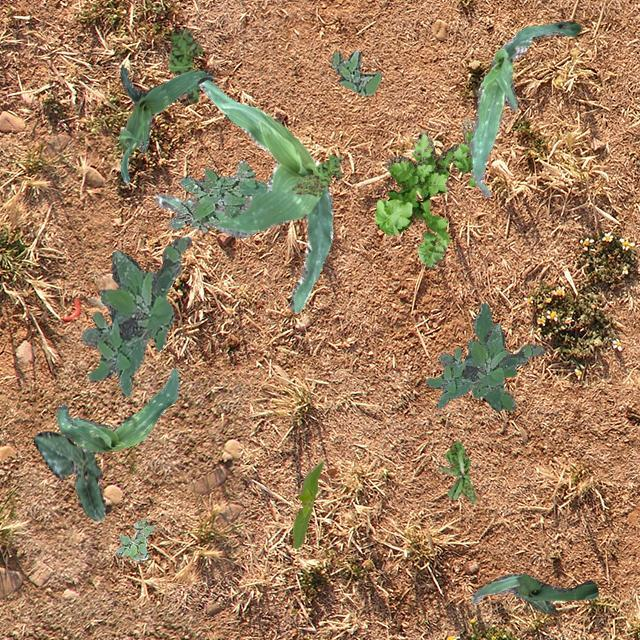crop: (154, 78, 332, 312), (468, 21, 580, 196), (119, 64, 212, 184), (56, 368, 178, 452), (33, 430, 106, 520), (470, 572, 598, 612), (292, 460, 322, 548)
weed: (80, 236, 190, 396), (374, 116, 476, 266), (424, 322, 544, 407), (168, 160, 268, 232), (470, 302, 516, 409), (166, 28, 202, 102), (330, 50, 380, 96), (438, 440, 474, 502), (292, 154, 342, 196), (115, 518, 154, 560)
